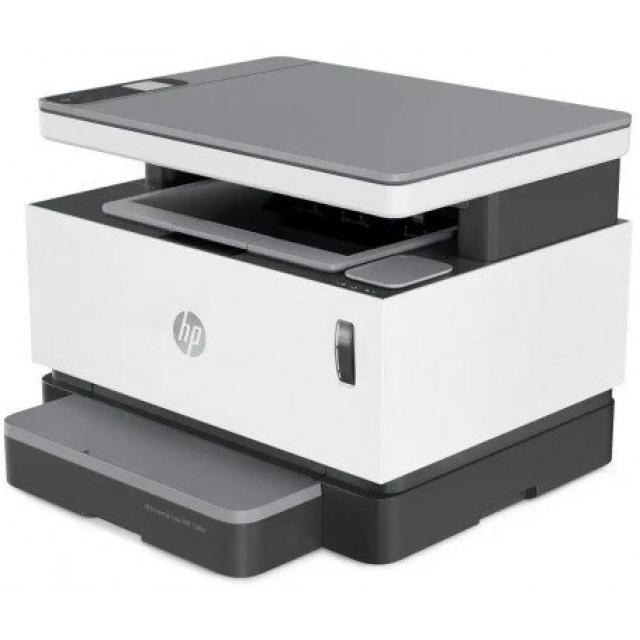printer: (1, 52, 633, 578)
